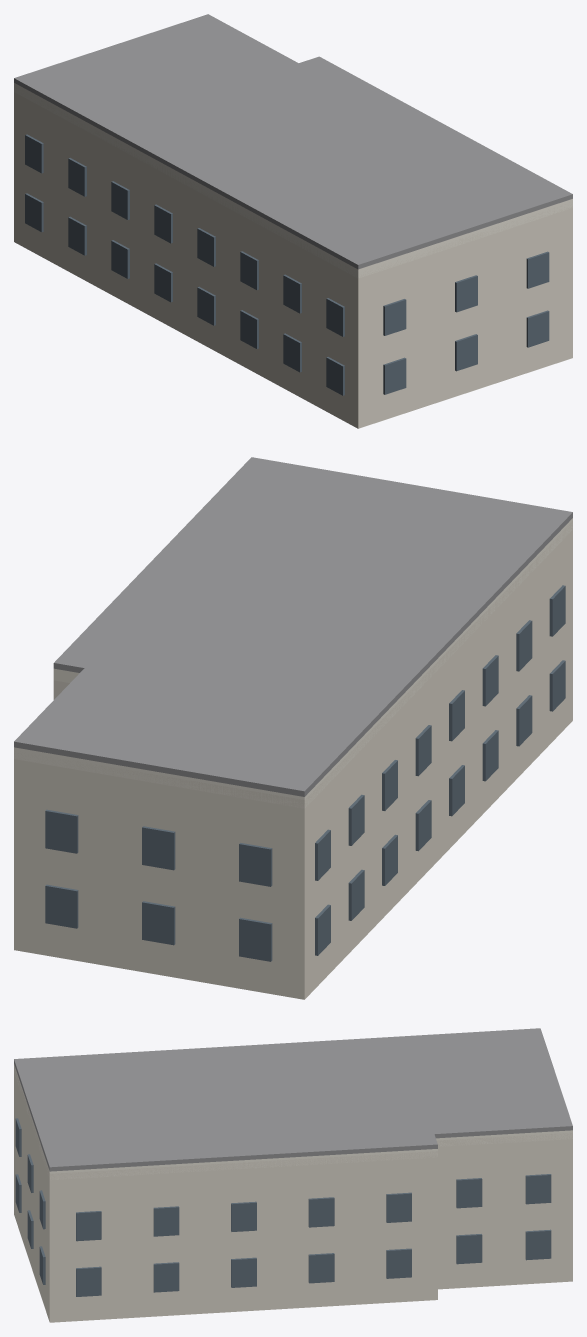
The model's file is s36_gis_248098_820737.glb.
3 views of the same model, one above another, from view 1: azimuth 30°, elevation 25°; view 2: azimuth 150°, elevation 25°; view 3: azimuth 270°, elevation 25° (orthographic). The views are drawn at different scales.
Parts seen in each view (by area): view 1: mass, roofcap, cornice, win_1_1_0, win_1_0_2, win_1_0_0, win_1_1_2, win_1_1_1, win_1_0_1, win_0_1_0, win_0_1_6, win_0_0_0 (+13 smaller); view 2: roofcap, mass, cornice, win_5_0_0, win_5_1_0, win_5_0_2, win_5_1_1, win_5_1_2, win_5_0_1, win_0_0_5, win_0_1_5, win_0_0_7 (+7 smaller); view 3: mass, roofcap, cornice, win_2_1_1, win_2_1_3, win_2_0_1, win_2_0_3, win_4_1_0, win_4_1_1, win_4_0_1, win_4_0_0, win_2_0_4 (+5 smaller).
Boxes of the visible parts, x1,y1,x2,y2 form: mass: (14,86,572,428); roofcap: (14,14,572,269); cornice: (14,83,572,278); win_1_1_0: (383,299,406,335); win_1_0_2: (526,310,549,347); win_1_0_0: (383,357,406,394); win_1_1_2: (526,251,549,288); win_1_1_1: (455,275,477,312); win_1_0_1: (455,334,477,371); win_0_1_0: (25,134,43,173); win_0_1_6: (283,274,301,313); win_0_0_0: (25,193,43,232); roofcap: (14,457,572,796); mass: (14,521,572,999); cornice: (14,518,572,808); win_5_0_0: (45,884,78,928); win_5_1_0: (45,809,78,853); win_5_0_2: (239,917,272,961); win_5_1_1: (142,826,175,870); win_5_1_2: (239,843,272,886); win_5_0_1: (142,901,175,945); win_0_0_5: (482,730,498,781); win_0_1_5: (482,655,498,706); win_0_0_7: (549,660,565,711); mass: (14,1070,572,1322); roofcap: (14,1028,572,1171); cornice: (14,1064,572,1179); win_2_1_1: (153,1206,179,1236); win_2_1_3: (308,1197,334,1227); win_2_0_1: (153,1262,179,1292); win_2_0_3: (308,1253,334,1283); win_4_1_0: (456,1178,482,1208); win_4_1_1: (525,1174,551,1204); win_4_0_1: (525,1229,551,1260); win_4_0_0: (456,1234,482,1264); win_2_0_4: (386,1248,411,1278).
Bounding box in the file's own units: 16.02 × 8.35 × 27.21.
